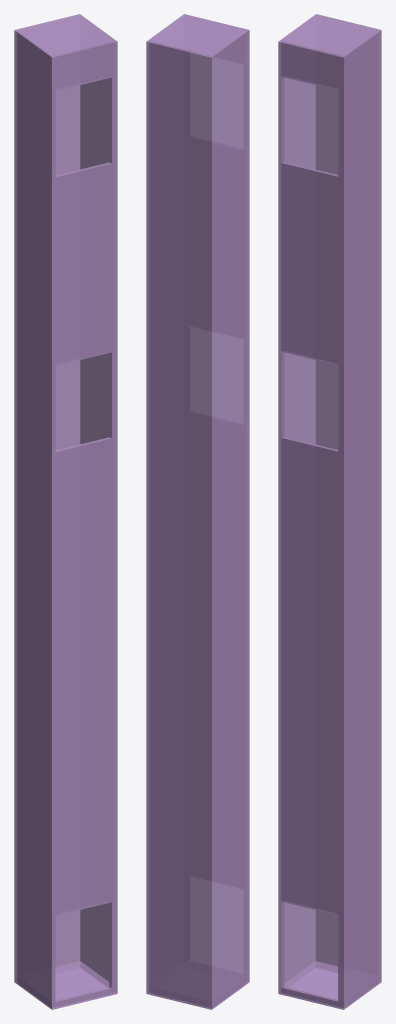
The model's file is ascens.fbx.
3 renders of one model, left to right at view 1: azimuth 30°, elevation 25°; view 2: azimuth 150°, elevation 25°; view 3: azimuth 330°, elevation 25°, orthographic.
Visible parts, largest first — view 1: Plane; view 2: Plane; view 3: Plane.
Part boxes in pixels (box(x1,y1,x2,y2)): Plane: box(14, 14, 117, 1009); Plane: box(146, 14, 249, 1009); Plane: box(278, 14, 381, 1009).
Bounding box in the file's own units: 400 × 5545 × 400.
